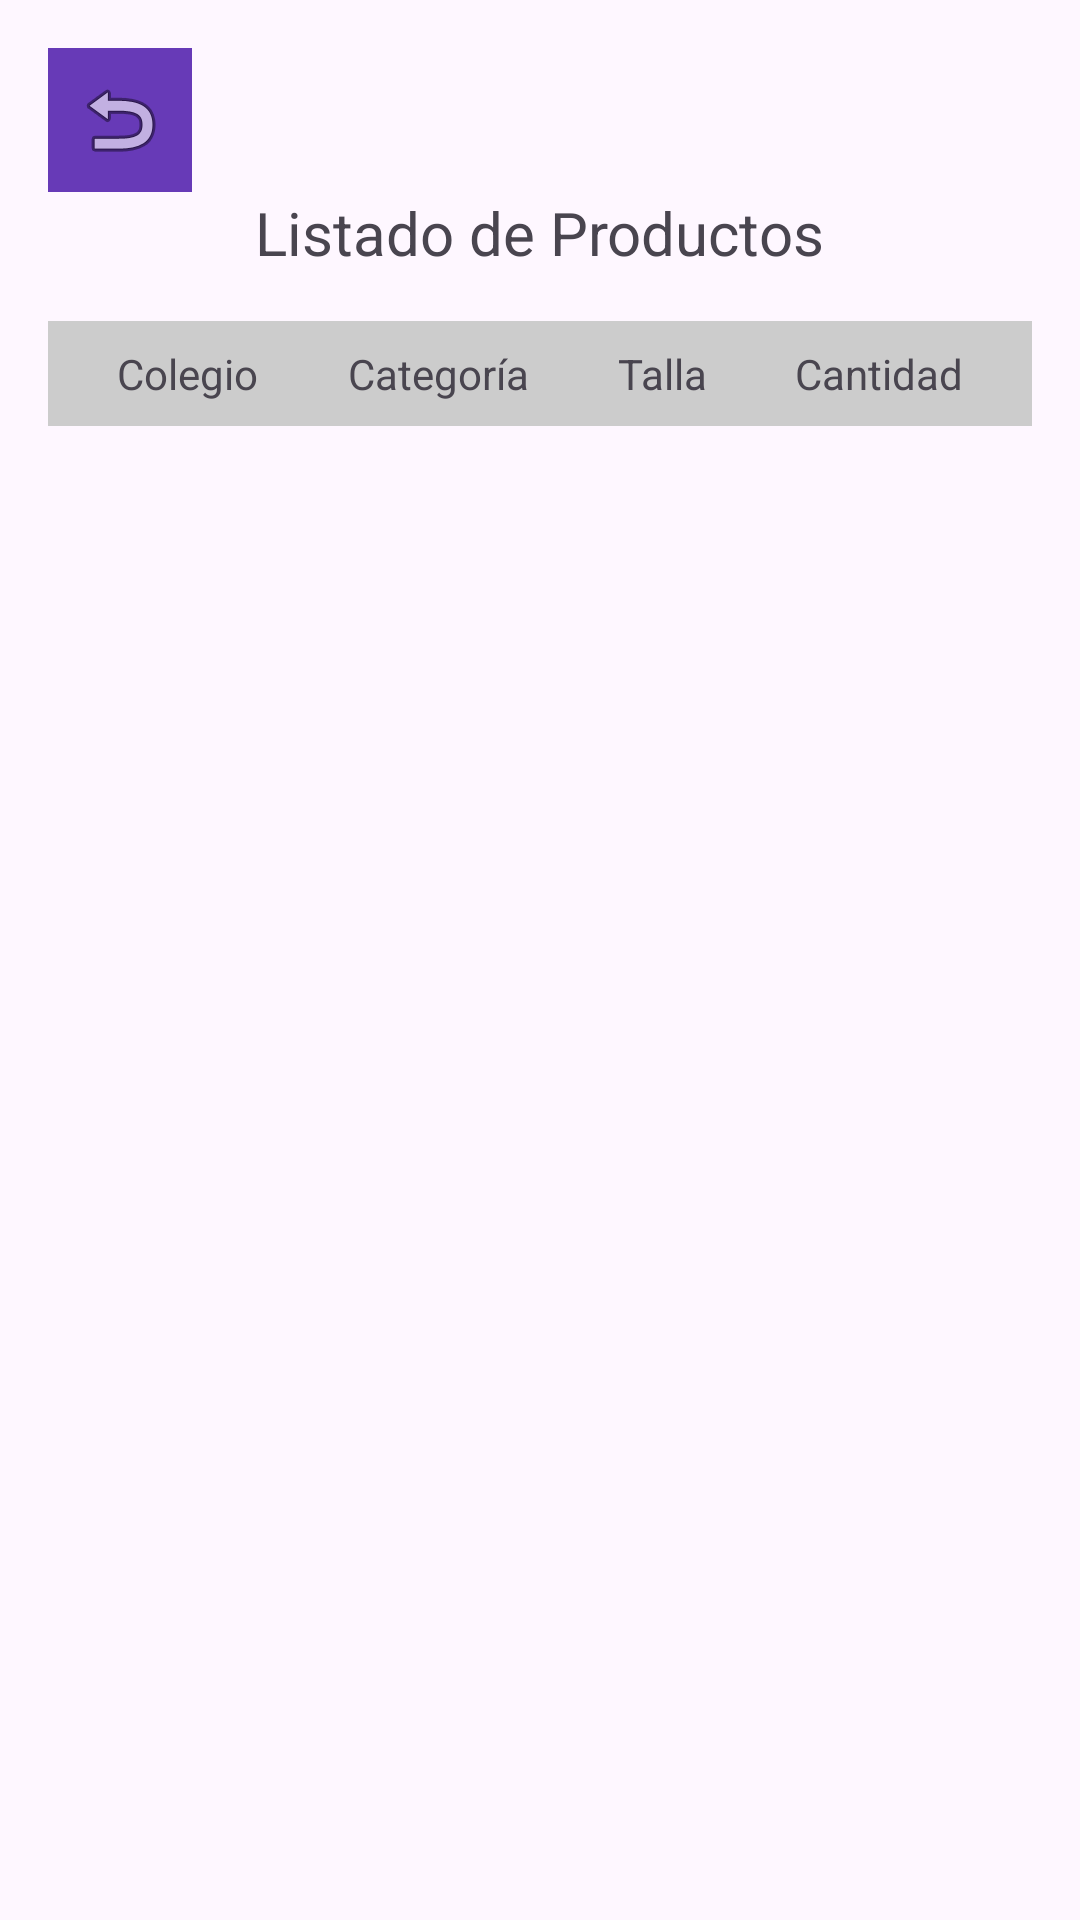

Icon bounding boxes for this 1080x1920 phone screenshot, format (x1, y1, x2, y2):
revert: (48, 48, 192, 192)
